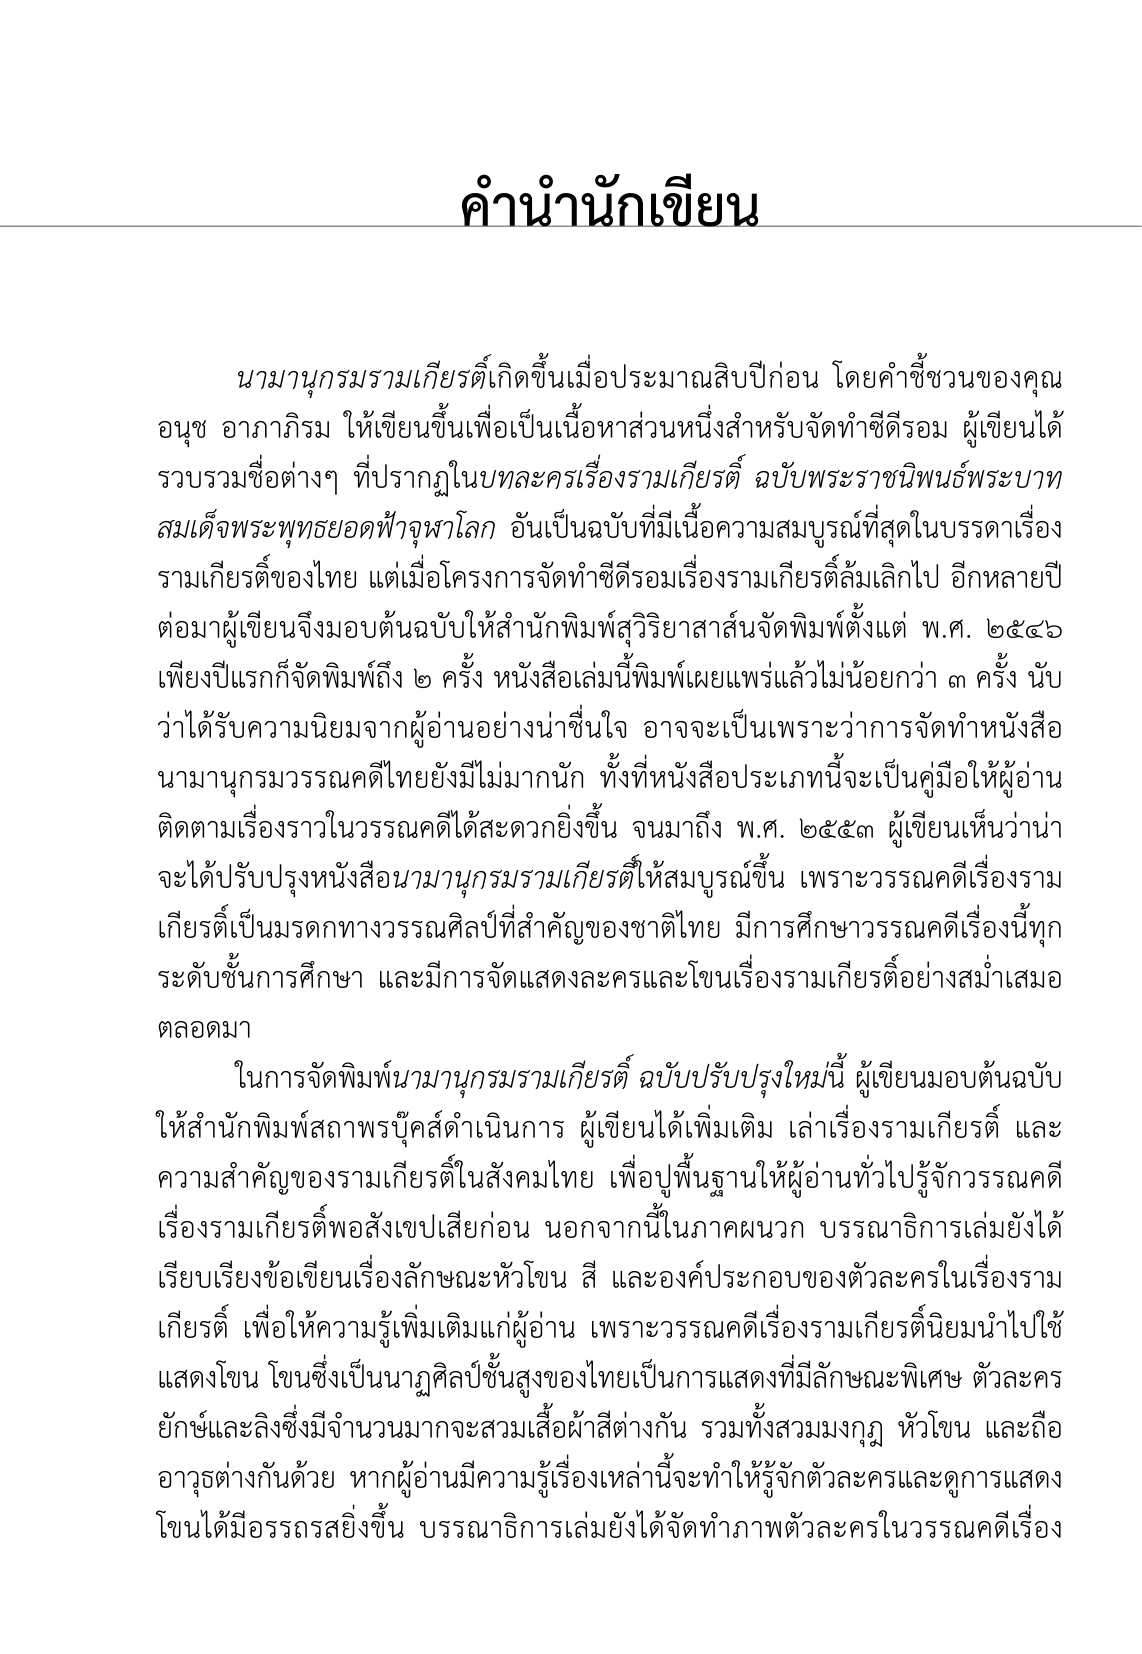thai: (153, 1254, 1067, 1548), (155, 346, 1065, 600), (155, 602, 1065, 853), (155, 1053, 1065, 1249), (155, 856, 1067, 1048), (459, 165, 760, 231)
